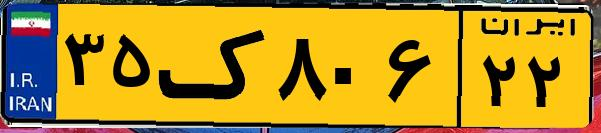0: (330, 28, 385, 110)
2: (475, 38, 525, 113), (525, 38, 570, 115)
3: (57, 26, 110, 100)
5: (110, 28, 158, 98)
6: (385, 28, 445, 110)
8: (270, 28, 330, 110)
ک: (158, 12, 270, 120)
